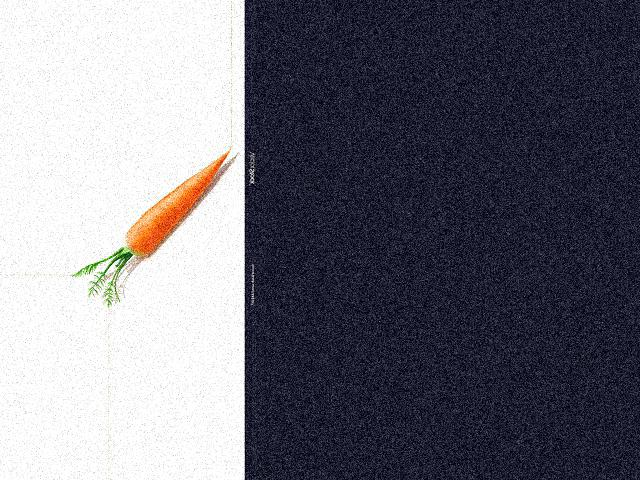carrot: (119, 150, 233, 260)
